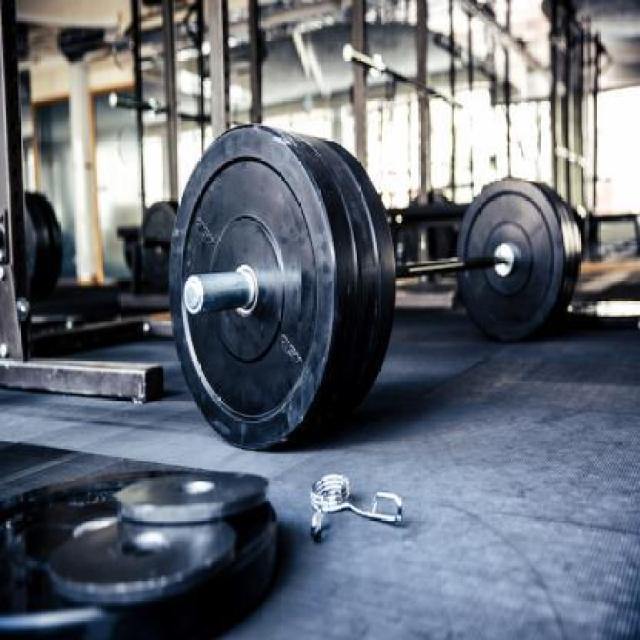barbell: (148, 118, 417, 458)
